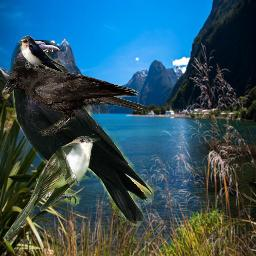Crow: (10, 40, 154, 226), (0, 66, 144, 136)
Cuckoo: (2, 135, 100, 245)
Swallow: (18, 35, 64, 74)
